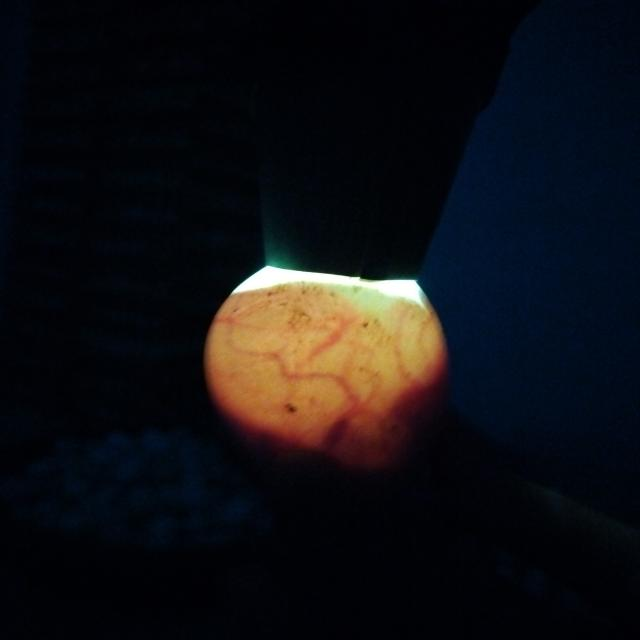Embriao: (207, 355, 458, 495)
